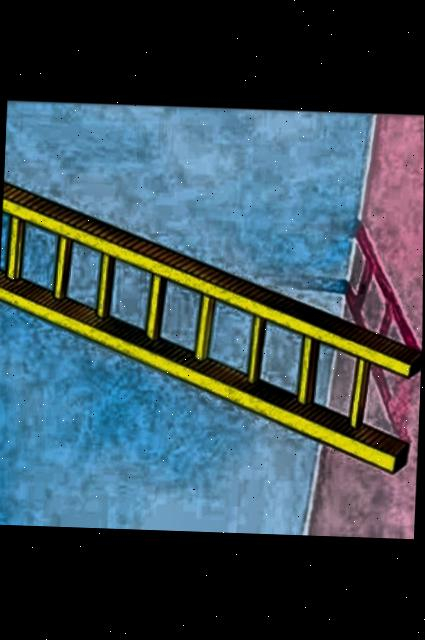La Escalera: (0, 99, 424, 539)
